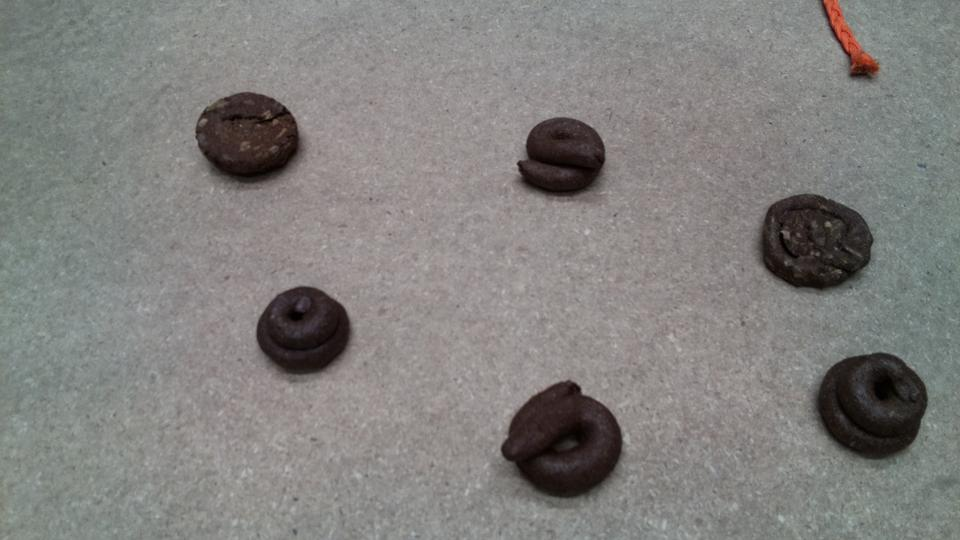poop: (499, 378, 625, 500), (813, 350, 932, 463), (759, 190, 878, 293), (191, 88, 306, 184), (252, 283, 355, 378), (515, 115, 610, 200)
rope: (811, 1, 880, 81)
